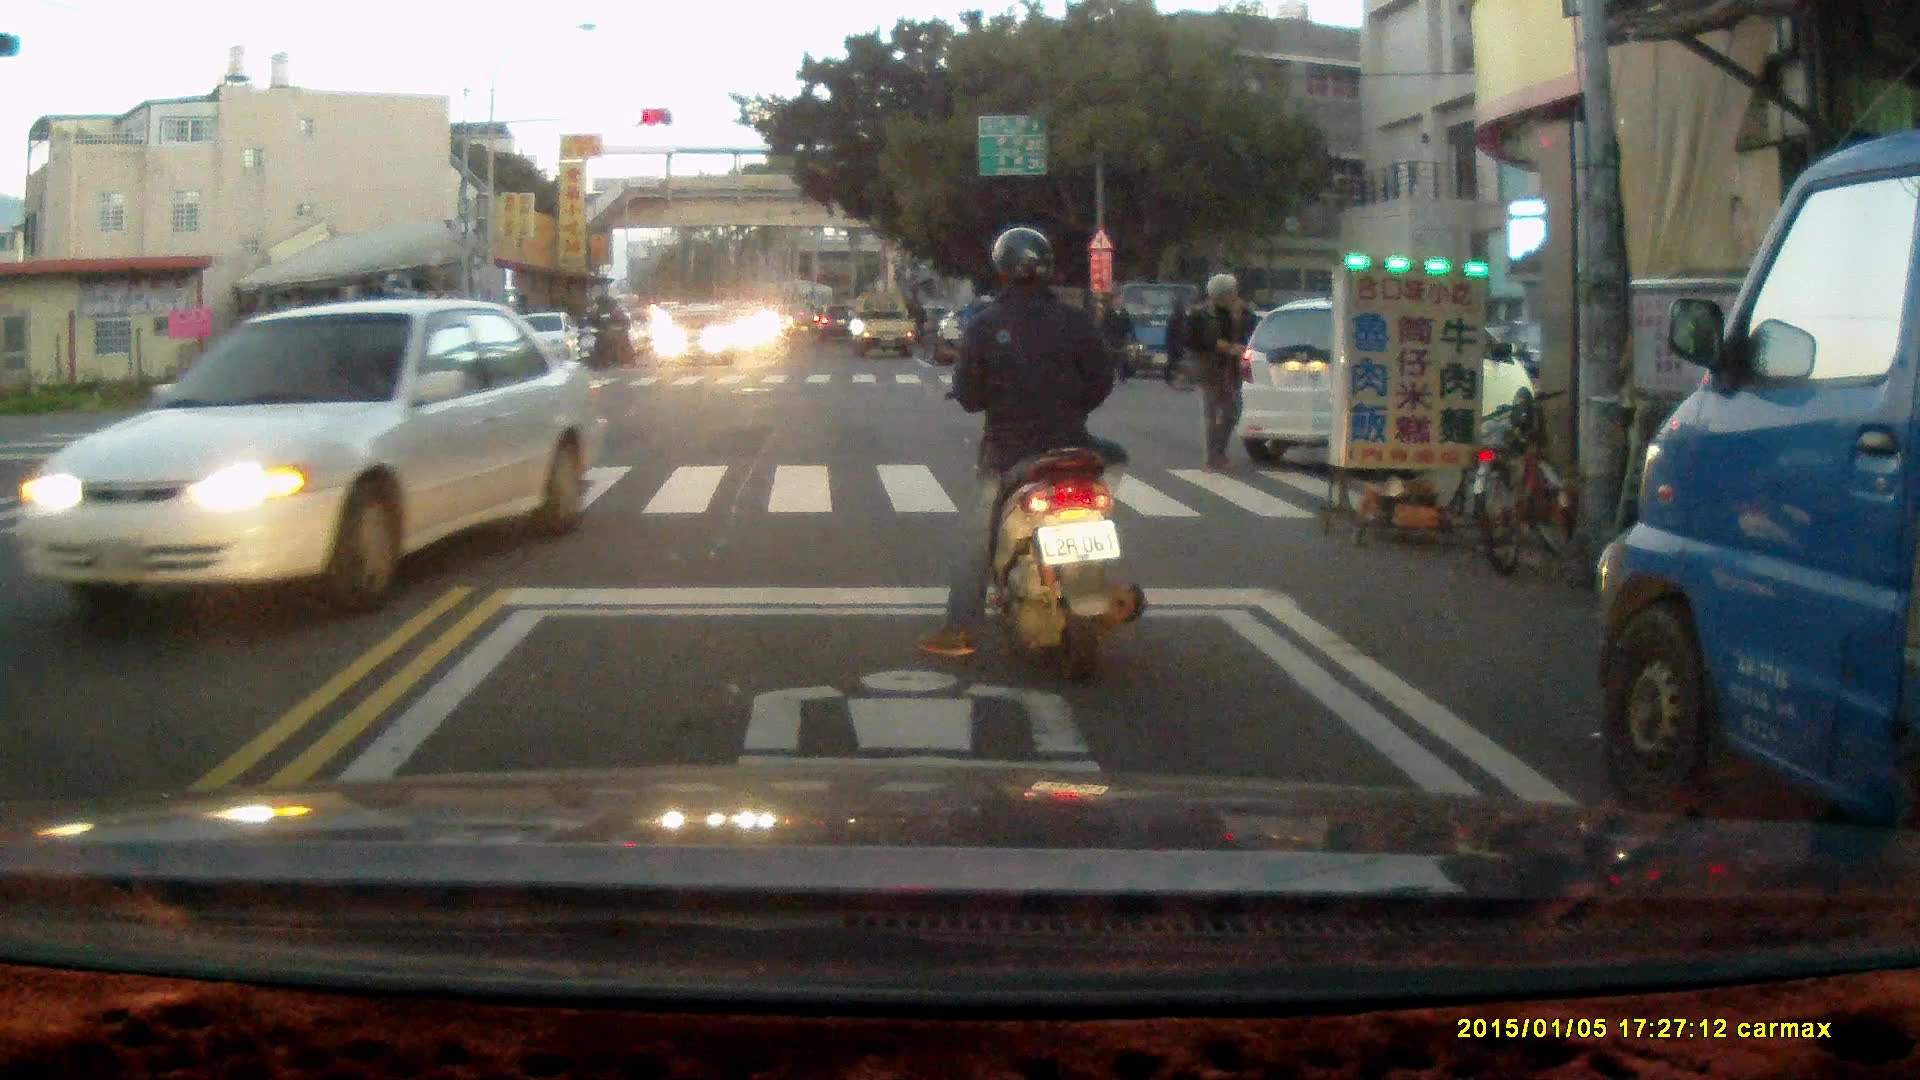pedestrian: (1184, 271, 1251, 473), (1099, 292, 1140, 391), (1163, 293, 1197, 391)
rider: (918, 228, 1149, 686), (594, 300, 632, 368), (577, 301, 612, 372)
vehicle: (1596, 120, 1920, 901), (26, 296, 593, 617), (1236, 303, 1533, 462), (657, 301, 739, 373), (852, 292, 920, 361)
